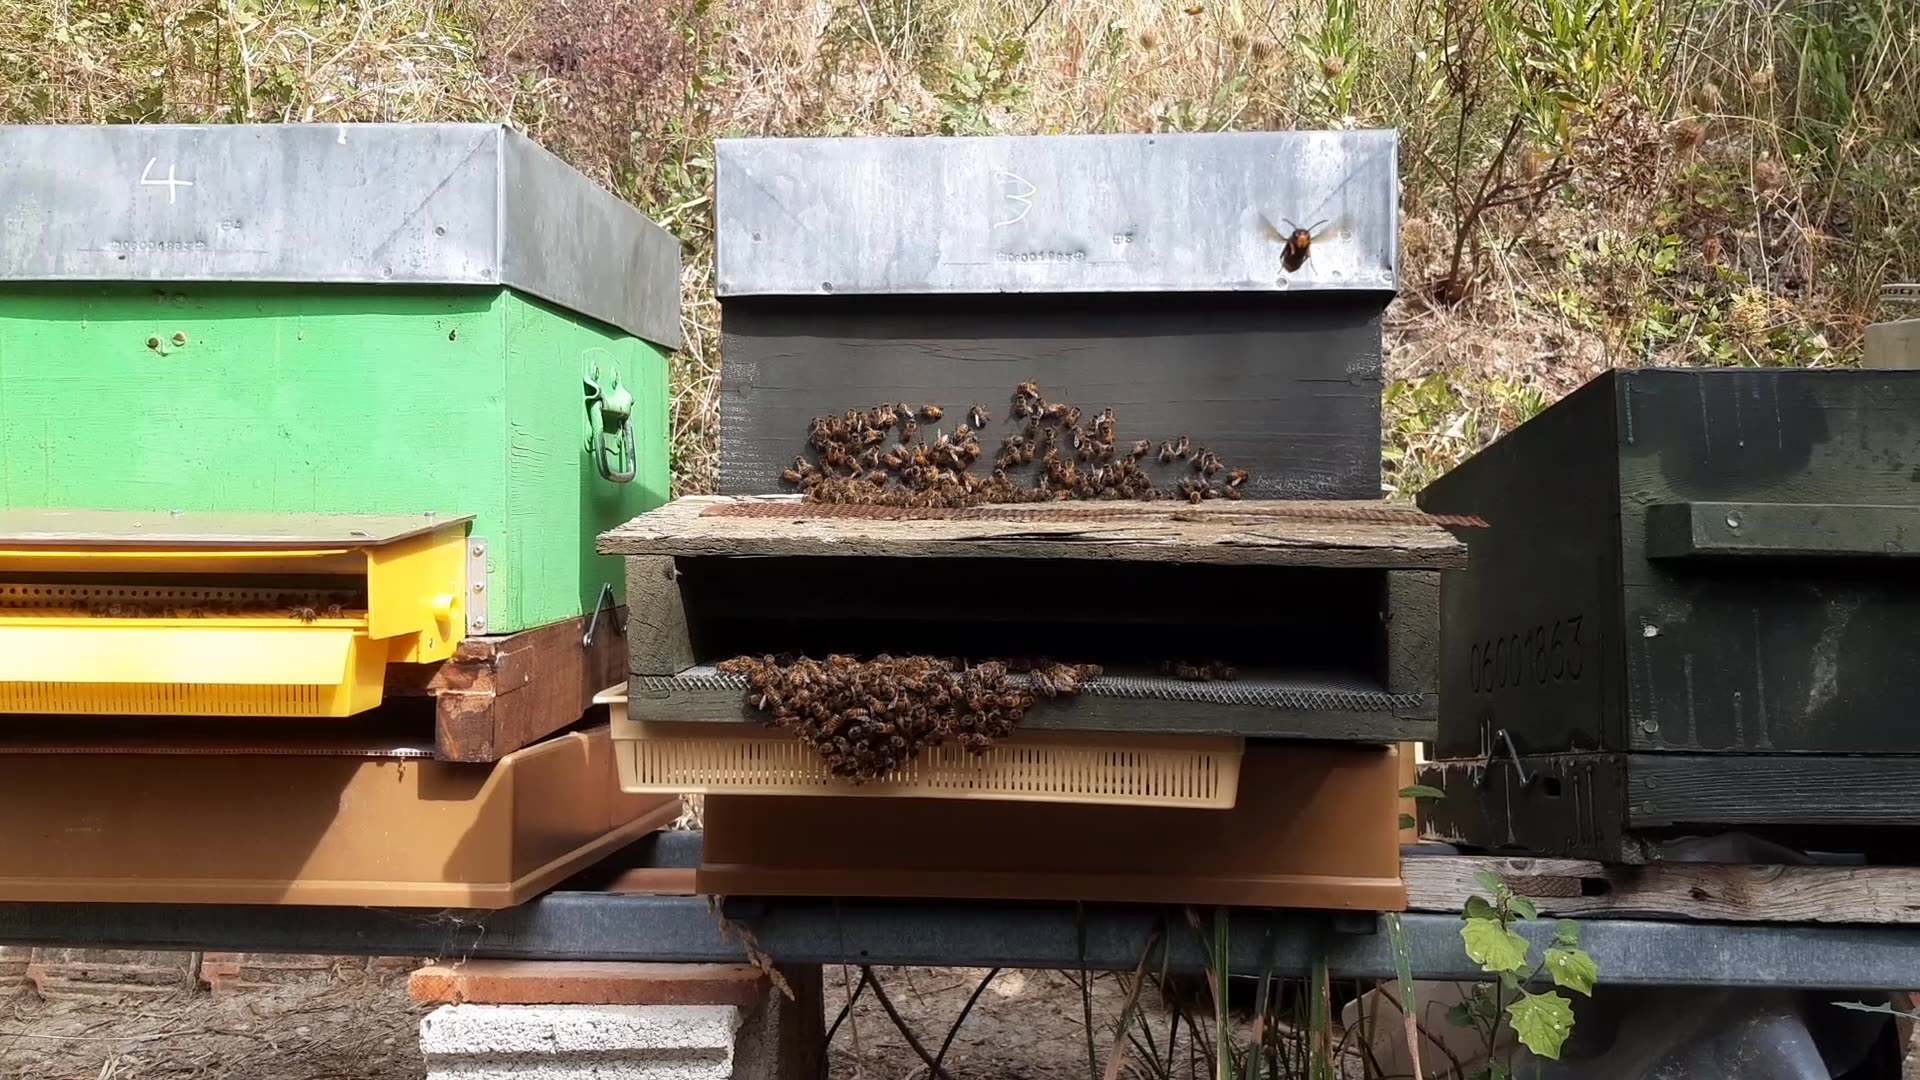bee: (837, 720, 916, 789), (720, 670, 789, 731), (1164, 451, 1244, 502), (1022, 458, 1087, 513), (919, 469, 990, 517), (851, 407, 923, 454), (833, 468, 899, 516), (1018, 398, 1080, 448), (907, 406, 971, 448), (1266, 220, 1312, 276)
